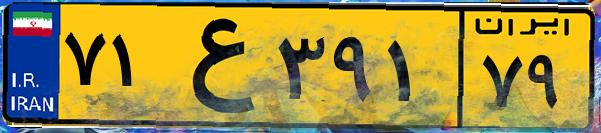1: (385, 28, 445, 110), (110, 28, 158, 98)
3: (270, 28, 330, 110)
7: (57, 26, 110, 100), (475, 38, 525, 113)
9: (330, 28, 385, 110), (525, 38, 570, 115)
ع: (158, 12, 270, 120)
